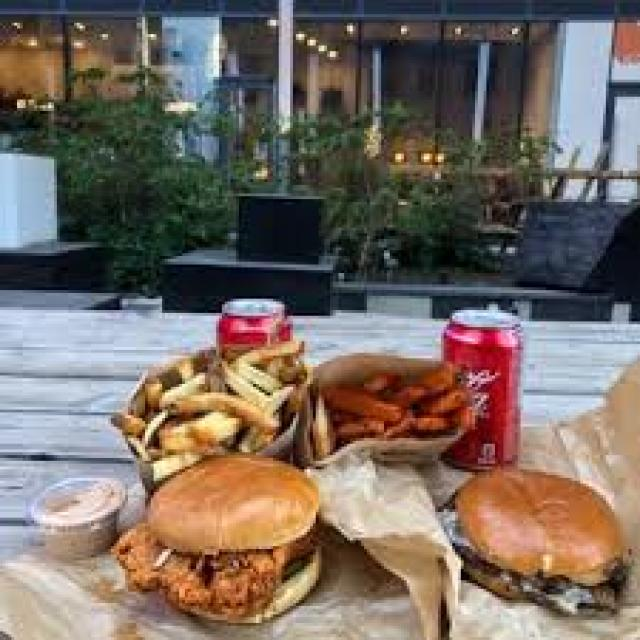Burger: (120, 472, 628, 629)
French Fries: (117, 338, 296, 464)
